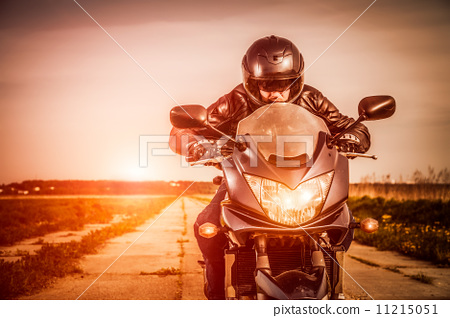helmet: (231, 31, 311, 112)
